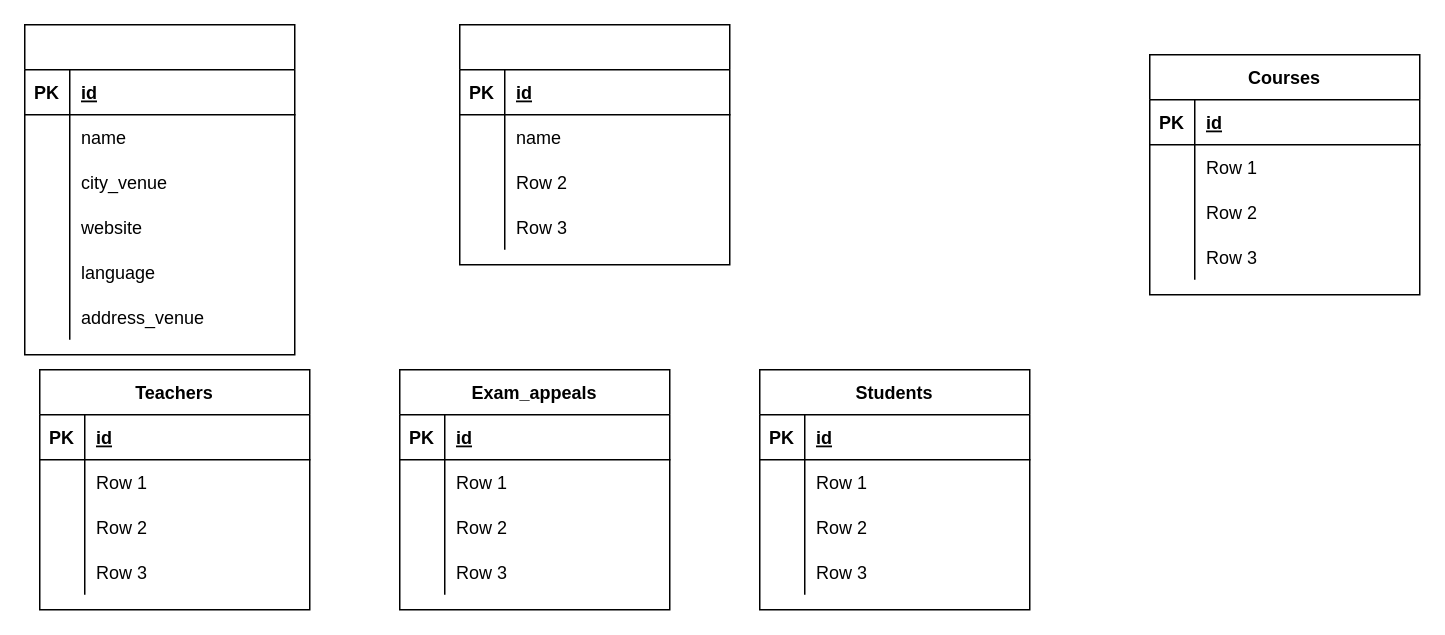
The diagram is 1445 pixels wide and 635 high, and some of its shapes have lost their labels. Each missing label, with the box of its shape:
Degree_courses: (458, 23, 730, 265)
Departments: (23, 23, 295, 355)
